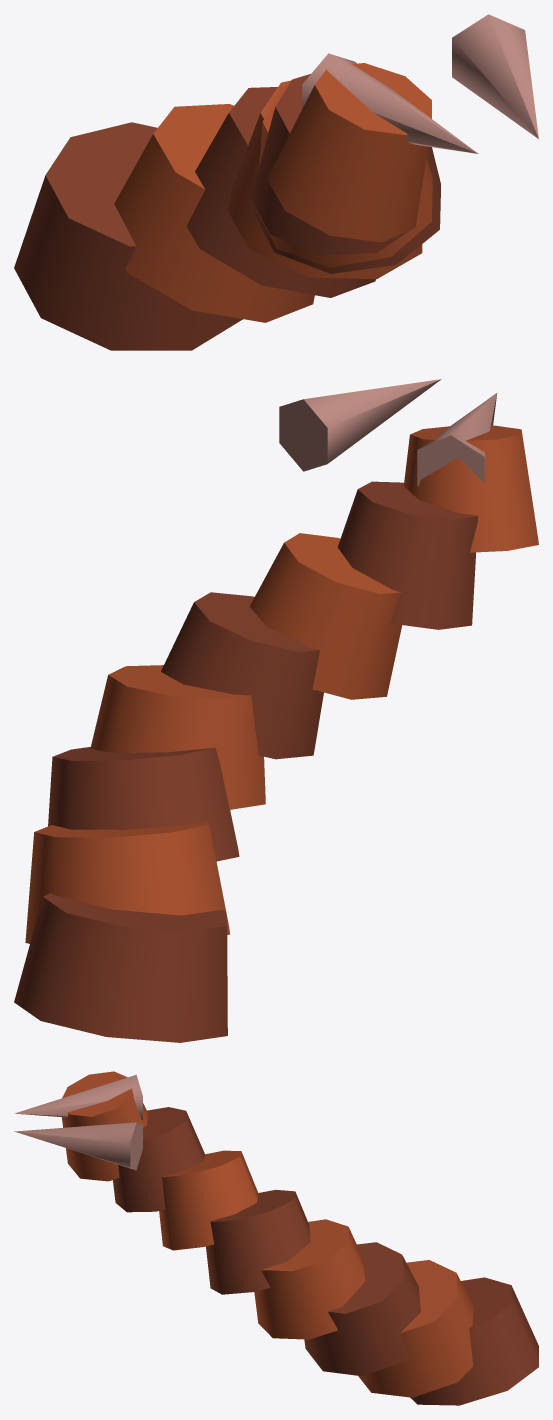
File: canyon_boss.glb
The picture shows the model from 3 angles, top to bottom: view 1: azimuth 30°, elevation 25°; view 2: azimuth 150°, elevation 25°; view 3: azimuth 270°, elevation 25°; orthographic projection. The views are drawn at different scales.
Visible parts, largest first — view 1: BOSS_canyon_sandwyrm_segment_0, BOSS_canyon_sandwyrm_segment_7, BOSS_canyon_sandwyrm_segment_1, BOSS_canyon_sandwyrm_segment_2, BOSS_canyon_sandwyrm_jaw_1, BOSS_canyon_sandwyrm_segment_6, BOSS_canyon_sandwyrm_jaw_-1, BOSS_canyon_sandwyrm_segment_3, BOSS_canyon_sandwyrm_segment_5, BOSS_canyon_sandwyrm_segment_4; view 2: BOSS_canyon_sandwyrm_segment_0, BOSS_canyon_sandwyrm_segment_5, BOSS_canyon_sandwyrm_segment_1, BOSS_canyon_sandwyrm_segment_4, BOSS_canyon_sandwyrm_segment_6, BOSS_canyon_sandwyrm_segment_2, BOSS_canyon_sandwyrm_segment_3, BOSS_canyon_sandwyrm_segment_7, BOSS_canyon_sandwyrm_jaw_1, BOSS_canyon_sandwyrm_jaw_-1; view 3: BOSS_canyon_sandwyrm_segment_2, BOSS_canyon_sandwyrm_segment_3, BOSS_canyon_sandwyrm_segment_1, BOSS_canyon_sandwyrm_segment_0, BOSS_canyon_sandwyrm_segment_4, BOSS_canyon_sandwyrm_segment_5, BOSS_canyon_sandwyrm_segment_6, BOSS_canyon_sandwyrm_segment_7, BOSS_canyon_sandwyrm_jaw_1, BOSS_canyon_sandwyrm_jaw_-1.
Part boxes in pixels (bbox=[...]): BOSS_canyon_sandwyrm_segment_0: bbox=[14, 122, 242, 350]; BOSS_canyon_sandwyrm_segment_7: bbox=[267, 63, 431, 242]; BOSS_canyon_sandwyrm_segment_1: bbox=[114, 104, 314, 322]; BOSS_canyon_sandwyrm_segment_2: bbox=[186, 87, 375, 297]; BOSS_canyon_sandwyrm_jaw_1: bbox=[452, 14, 538, 138]; BOSS_canyon_sandwyrm_segment_6: bbox=[251, 74, 410, 255]; BOSS_canyon_sandwyrm_jaw_-1: bbox=[302, 53, 478, 153]; BOSS_canyon_sandwyrm_segment_3: bbox=[228, 80, 422, 279]; BOSS_canyon_sandwyrm_segment_5: bbox=[256, 84, 432, 267]; BOSS_canyon_sandwyrm_segment_4: bbox=[252, 146, 440, 273]; BOSS_canyon_sandwyrm_segment_0: bbox=[14, 893, 227, 1042]; BOSS_canyon_sandwyrm_segment_5: bbox=[249, 533, 402, 699]; BOSS_canyon_sandwyrm_segment_1: bbox=[25, 821, 230, 943]; BOSS_canyon_sandwyrm_segment_4: bbox=[161, 592, 323, 759]; BOSS_canyon_sandwyrm_segment_6: bbox=[337, 481, 478, 629]; BOSS_canyon_sandwyrm_segment_2: bbox=[48, 747, 239, 861]; BOSS_canyon_sandwyrm_segment_3: bbox=[90, 665, 265, 809]; BOSS_canyon_sandwyrm_segment_7: bbox=[403, 425, 538, 552]; BOSS_canyon_sandwyrm_jaw_1: bbox=[279, 379, 441, 471]; BOSS_canyon_sandwyrm_jaw_-1: bbox=[417, 393, 497, 486]; BOSS_canyon_sandwyrm_segment_2: bbox=[304, 1242, 420, 1376]; BOSS_canyon_sandwyrm_segment_3: bbox=[254, 1219, 365, 1339]; BOSS_canyon_sandwyrm_segment_1: bbox=[358, 1260, 473, 1397]; BOSS_canyon_sandwyrm_segment_0: bbox=[410, 1277, 538, 1405]; BOSS_canyon_sandwyrm_segment_4: bbox=[206, 1189, 310, 1294]; BOSS_canyon_sandwyrm_segment_5: bbox=[159, 1150, 258, 1250]; BOSS_canyon_sandwyrm_segment_6: bbox=[113, 1107, 205, 1212]; BOSS_canyon_sandwyrm_segment_7: bbox=[62, 1071, 148, 1181]; BOSS_canyon_sandwyrm_jaw_1: bbox=[14, 1122, 142, 1170]; BOSS_canyon_sandwyrm_jaw_-1: bbox=[14, 1074, 142, 1119].
Bounding box in the file's own units: 2.14 × 3.14 × 5.15.
